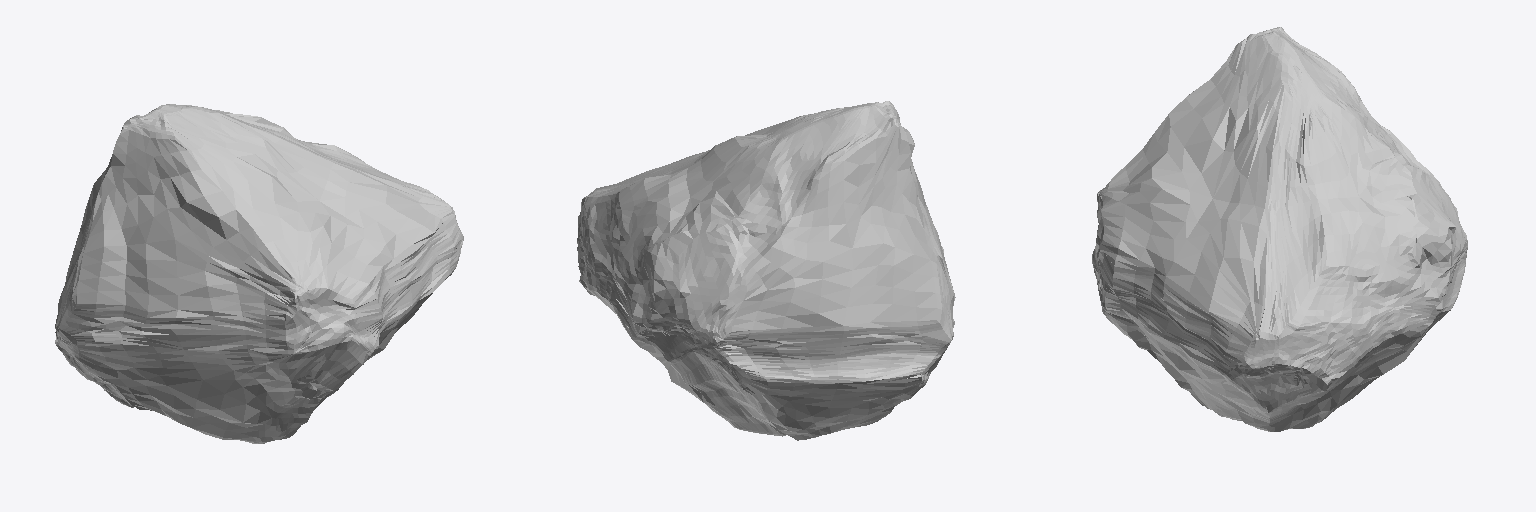
The model's file is Rock_05_Hite.OBJ.
3 renders of one model, left to right at view 1: azimuth 30°, elevation 25°; view 2: azimuth 150°, elevation 25°; view 3: azimuth 270°, elevation 25°, orthographic.
Parts seen in each view (by area): view 1: Group2; view 2: Group2; view 3: Group2.
Part boxes in pixels (bbox=[...]): Group2: bbox=[55, 104, 463, 443]; Group2: bbox=[577, 101, 955, 440]; Group2: bbox=[1092, 27, 1467, 431].
Bounding box in the file's own units: 18.63 × 16.04 × 15.78.